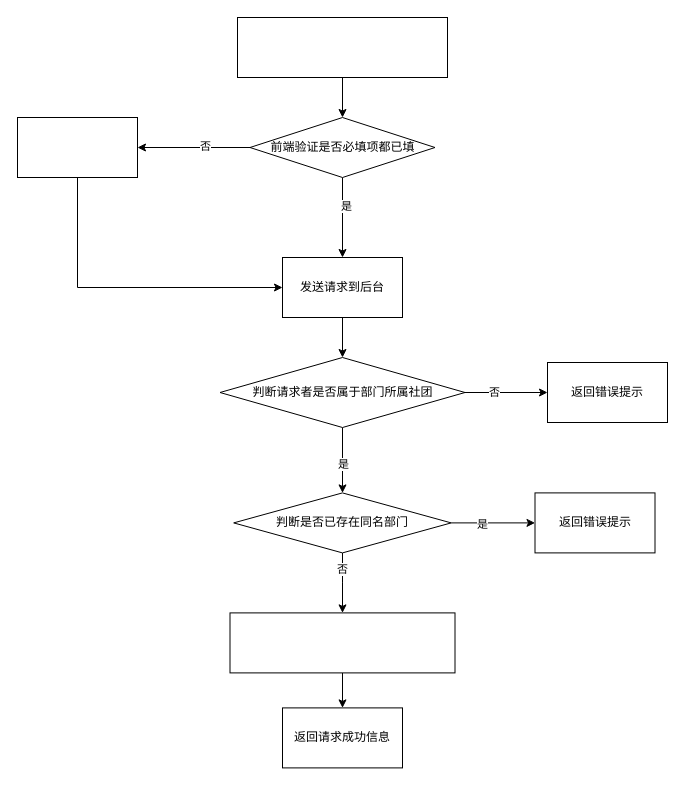
The diagram is 685 pixels wide and 786 high, and some of its shapes have lost their labels. Each missing label, with the centre of its shape:
做出提醒后补充填写: (x=77, y=147)
在部门表中插入状态为申请中的响应部门 在申请表中插入对应的申请数据: (x=342, y=642)
用户填写相应新部门信息后点击提交: (x=342, y=47)
